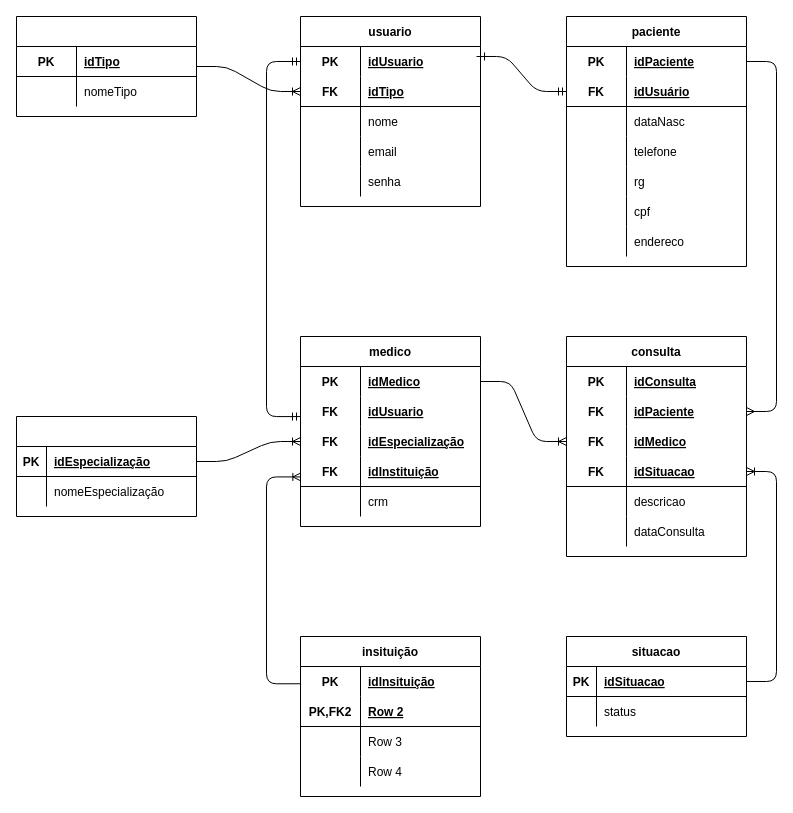
This 793x813 diagram has some shape labels left out. Each missing label, with the box of its shape:
Table: (16, 416, 196, 516)
tipoUsuario: (16, 16, 196, 116)
